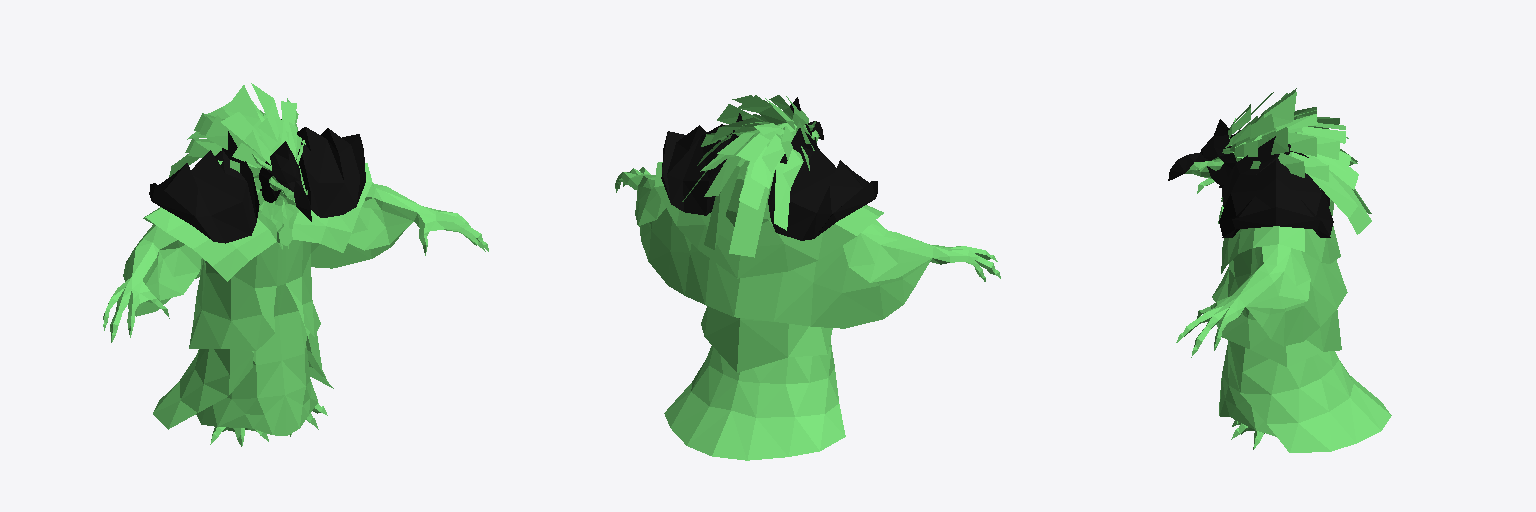
The model's file is arakkoa_warrior.obj.
The picture shows the model from 3 angles: view 1: azimuth 30°, elevation 25°; view 2: azimuth 150°, elevation 25°; view 3: azimuth 270°, elevation 25°; orthographic projection.
Visible parts, largest first — view 1: Geoset_000, Geoset_001; view 2: Geoset_000, Geoset_001; view 3: Geoset_000, Geoset_001.
Boxes of the visible parts, box(x1,y1,x2,y2) form: Geoset_000: box(103, 83, 488, 446); Geoset_001: box(149, 119, 365, 243); Geoset_000: box(615, 95, 1000, 460); Geoset_001: box(661, 97, 877, 240); Geoset_000: box(1176, 88, 1391, 452); Geoset_001: box(1168, 119, 1333, 237).
Bounding box in the file's own units: 3.36 × 2.83 × 1.72.